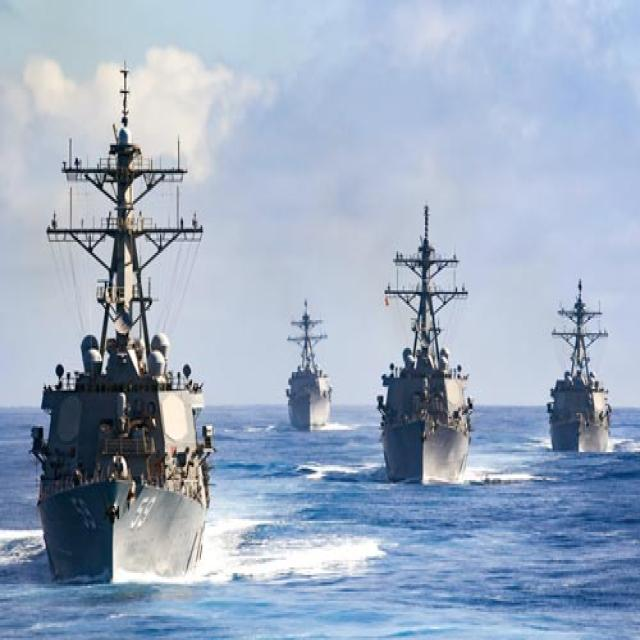navalvessels: (37, 46, 211, 584), (370, 188, 487, 483), (549, 275, 616, 447), (278, 299, 337, 426)
